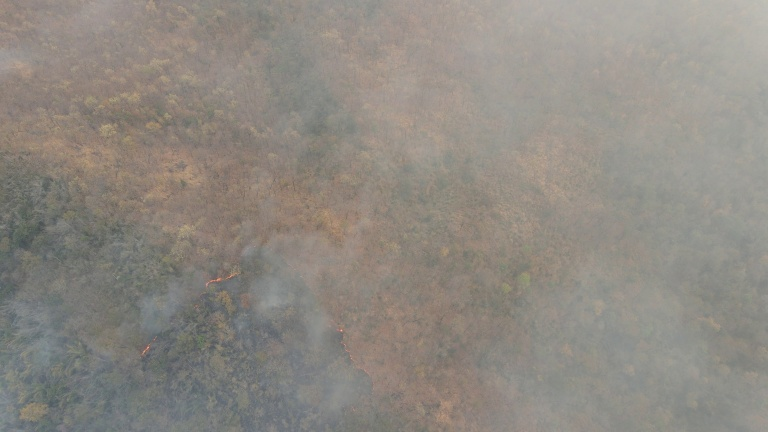fire: (322, 316, 376, 383), (196, 265, 244, 295), (137, 328, 168, 359)
smoke: (1, 228, 763, 432), (259, 1, 768, 227)
